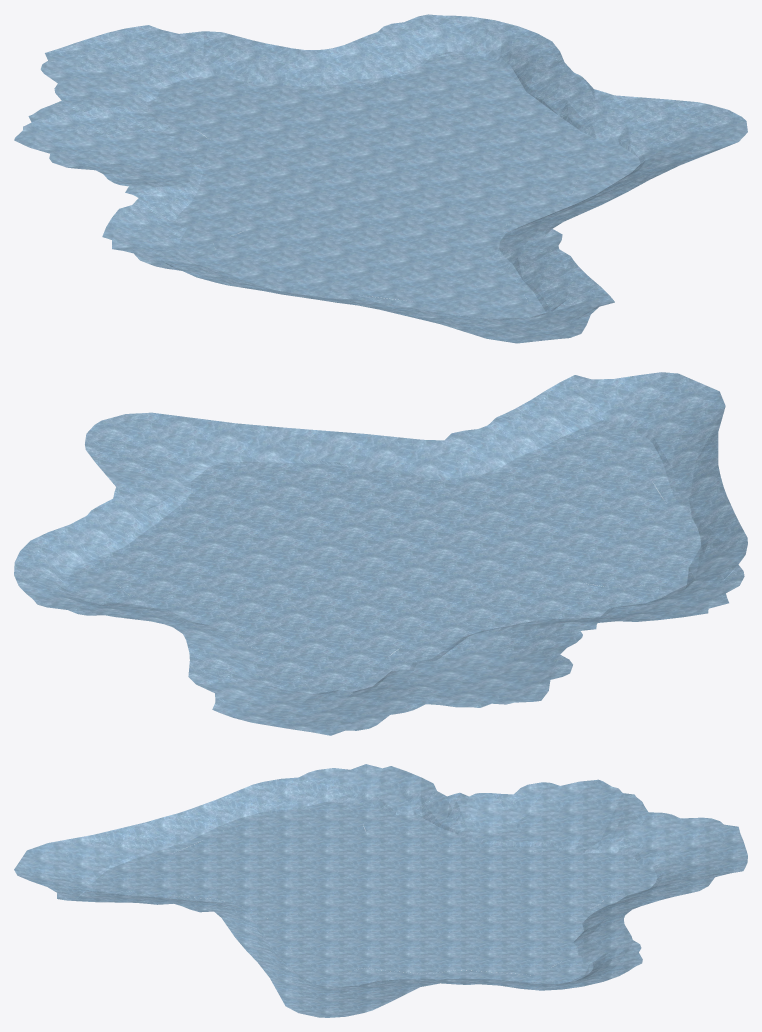
File: ice_lake_2-map.glb
3 views of the same model, one above another, from view 1: azimuth 30°, elevation 25°; view 2: azimuth 150°, elevation 25°; view 3: azimuth 270°, elevation 25° (orthographic). The views are drawn at different scales.
Parts seen in each view (by area): view 1: ice_lake_b_LOD0; view 2: ice_lake_b_LOD0; view 3: ice_lake_b_LOD0.
Part boxes in pixels (box(x1,y1,x2,y2)): ice_lake_b_LOD0: box(14, 14, 747, 343); ice_lake_b_LOD0: box(14, 372, 747, 735); ice_lake_b_LOD0: box(14, 764, 747, 1017).
Bounding box in the file's own units: 133 × 3.06 × 162.
1 material, 1 textured.
